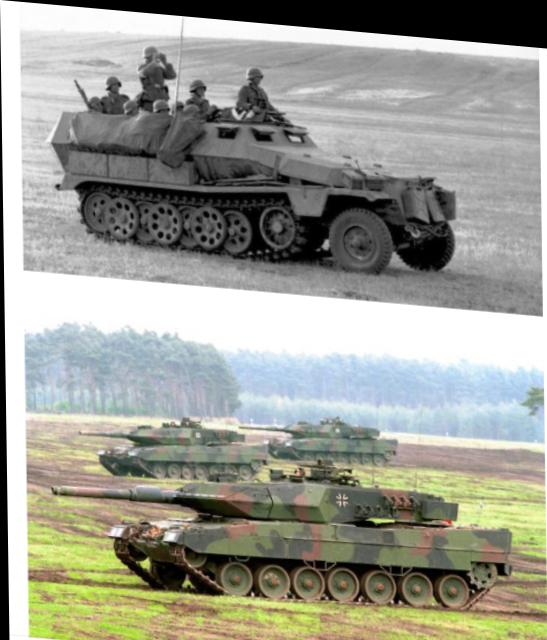tank: (133, 467, 498, 608), (112, 418, 255, 480), (269, 409, 387, 456)
